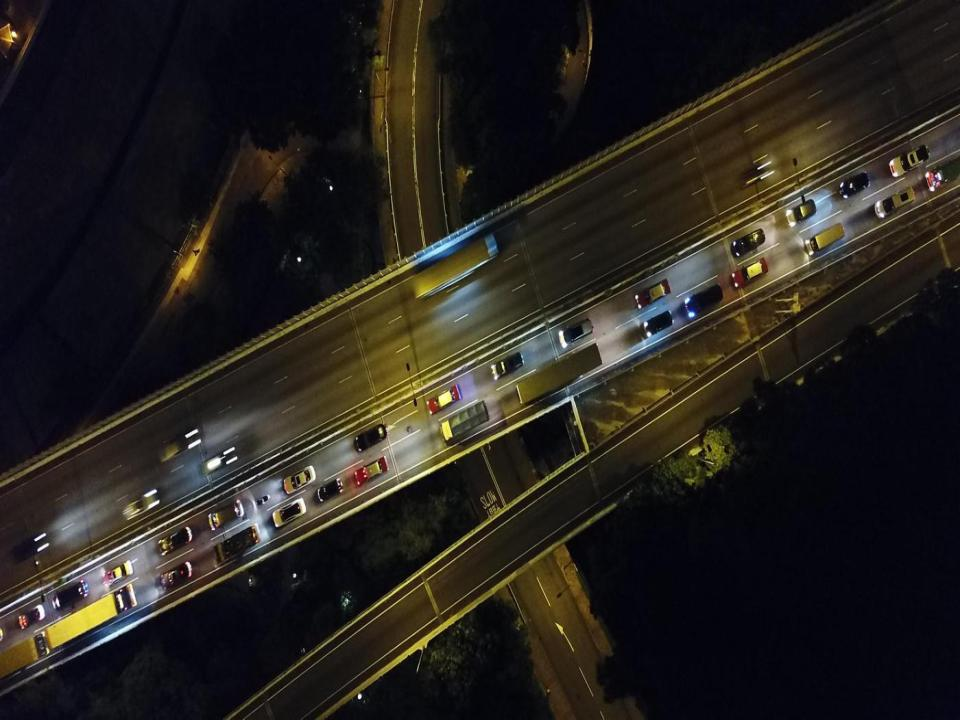bus: (44, 582, 137, 649), (0, 629, 49, 679), (804, 222, 846, 256)
car: (684, 282, 724, 318), (874, 185, 916, 219), (888, 144, 930, 178), (51, 578, 90, 612), (634, 277, 672, 310), (732, 256, 769, 289), (158, 431, 194, 464), (207, 498, 244, 530), (426, 383, 463, 415), (559, 316, 594, 349), (353, 422, 389, 453), (201, 446, 237, 477), (159, 559, 194, 590), (271, 497, 306, 528), (354, 455, 389, 486), (122, 490, 157, 520), (158, 526, 192, 556), (11, 534, 42, 566), (283, 464, 316, 494), (490, 351, 524, 380), (785, 198, 818, 227), (732, 228, 766, 256), (102, 560, 134, 589), (642, 309, 673, 338), (839, 171, 870, 198), (17, 604, 46, 630), (741, 164, 768, 189), (316, 478, 344, 502)
truck: (410, 231, 500, 301), (515, 342, 603, 406), (213, 522, 261, 566), (440, 400, 490, 442), (925, 156, 960, 191)
